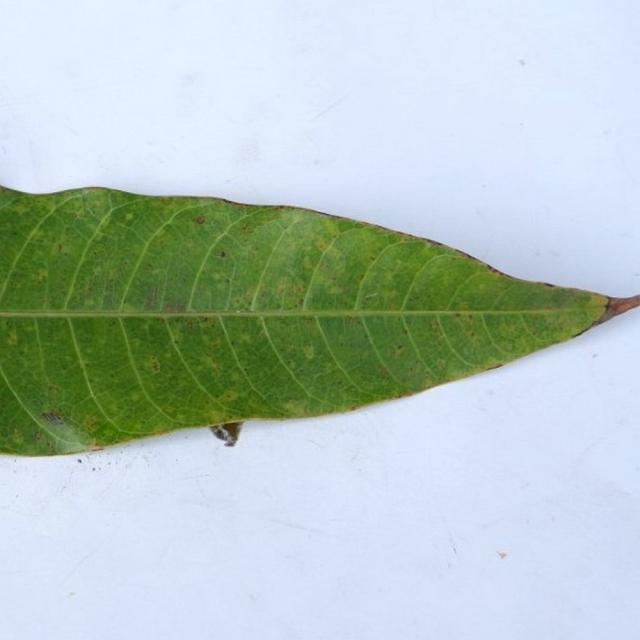Mango: (0, 186, 639, 454)
Powdery_Mildew: (539, 286, 596, 320), (74, 267, 123, 306), (340, 399, 401, 413), (450, 245, 492, 264), (274, 279, 299, 300), (299, 340, 319, 365), (161, 300, 194, 314), (481, 261, 509, 276), (143, 288, 161, 309), (224, 303, 258, 314), (41, 411, 65, 424), (81, 186, 119, 193), (283, 400, 303, 413), (148, 357, 161, 372), (83, 415, 98, 428), (6, 330, 18, 346), (237, 334, 253, 346), (12, 428, 24, 443), (86, 439, 101, 451), (36, 268, 49, 281), (386, 393, 405, 401), (485, 363, 504, 371), (221, 391, 236, 401), (272, 204, 293, 211), (327, 286, 343, 295), (302, 257, 313, 270), (212, 272, 225, 282), (346, 316, 362, 324), (318, 241, 329, 251), (323, 365, 334, 375), (48, 383, 60, 392), (540, 281, 557, 287), (195, 215, 205, 224), (232, 375, 243, 383), (365, 293, 379, 299), (91, 445, 105, 451), (211, 363, 221, 371), (378, 367, 388, 375), (437, 359, 446, 367), (125, 213, 134, 221), (395, 344, 403, 353), (431, 320, 440, 328), (242, 223, 251, 231), (186, 320, 193, 329), (35, 431, 42, 440), (349, 405, 358, 411), (219, 251, 226, 258), (454, 312, 461, 318), (225, 278, 233, 283), (592, 352, 598, 358), (369, 256, 376, 261), (58, 244, 62, 252), (468, 314, 473, 320), (403, 329, 408, 335), (5, 321, 10, 327), (77, 458, 82, 463)
